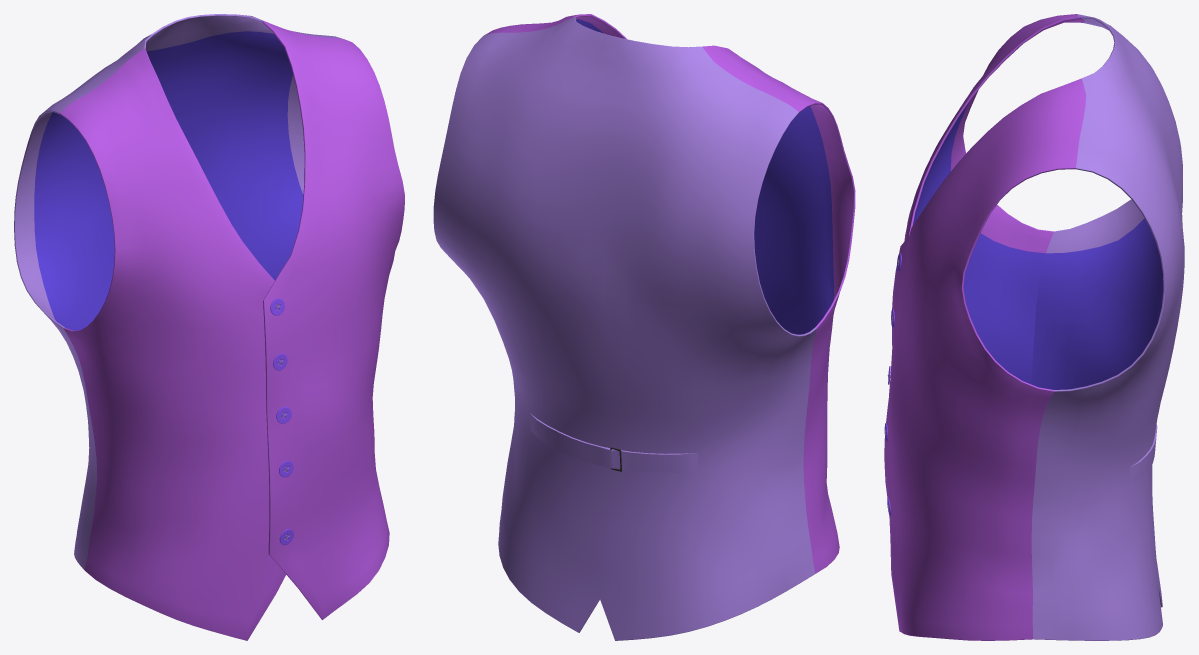
Rendered from Waiscoat_Test.fbx.
3 views of the same model, side by side, from view 1: azimuth 30°, elevation 25°; view 2: azimuth 150°, elevation 25°; view 3: azimuth 270°, elevation 25° (orthographic). The views are drawn at different scales.
Visible parts, largest first — view 1: CSA_Waiscoat_Front_SB001.001; view 2: CSA_Waiscoat_Front_SB001.001; view 3: CSA_Waiscoat_Front_SB001.001.
Boxes of the visible parts, x1=… form: CSA_Waiscoat_Front_SB001.001: x1=14, y1=14, x2=404, y2=640; CSA_Waiscoat_Front_SB001.001: x1=433, y1=14, x2=855, y2=640; CSA_Waiscoat_Front_SB001.001: x1=884, y1=14, x2=1184, y2=640.
Size of the model in its own units: 37.47 by 60.46 by 28.61.
